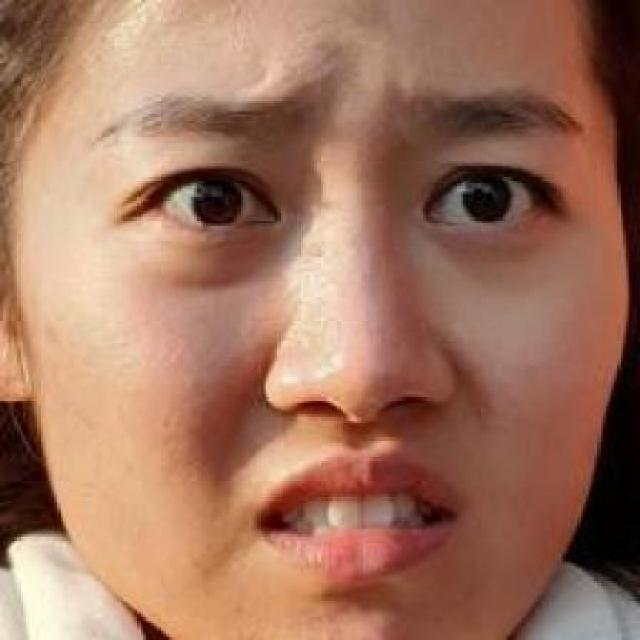anger: (68, 52, 579, 640)
